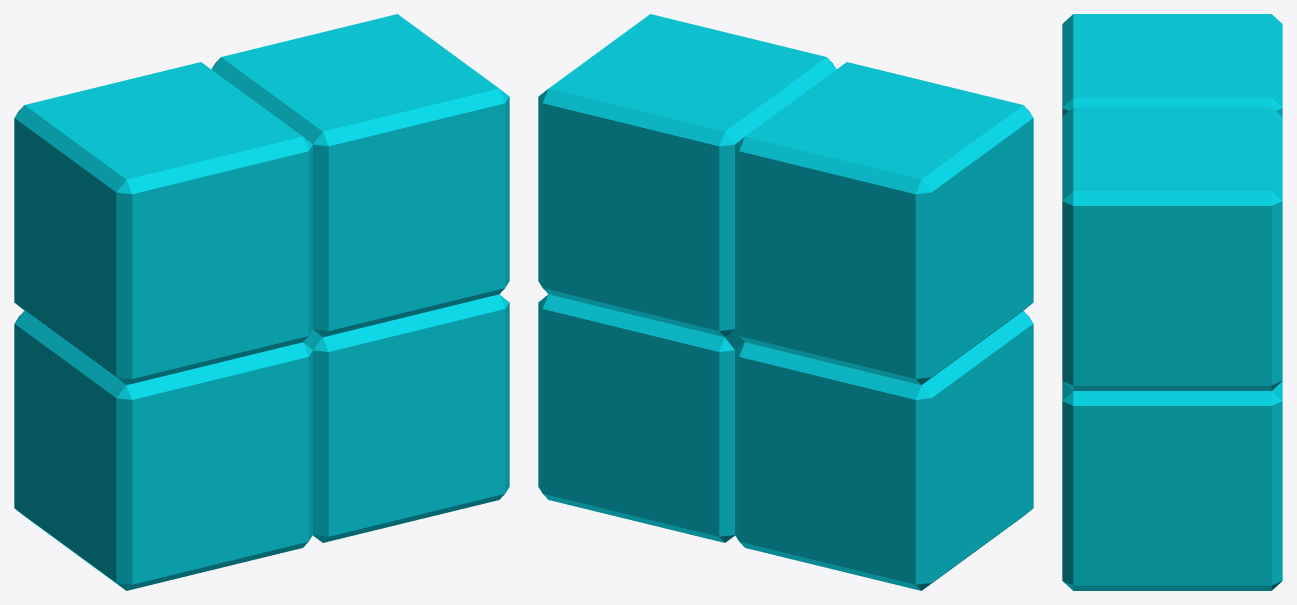
The model's file is TetrisH.glb.
3 views of the same model, side by side, from view 1: azimuth 30°, elevation 25°; view 2: azimuth 150°, elevation 25°; view 3: azimuth 270°, elevation 25° (orthographic). The views are drawn at different scales.
Visible parts, largest first — view 1: TetrisH; view 2: TetrisH; view 3: TetrisH.
Part boxes in pixels (x1,y1,x2,y2): TetrisH: [14, 14, 509, 590]; TetrisH: [538, 14, 1033, 590]; TetrisH: [1062, 14, 1282, 590].
Bounding box in the file's own units: 2 × 2 × 1.
